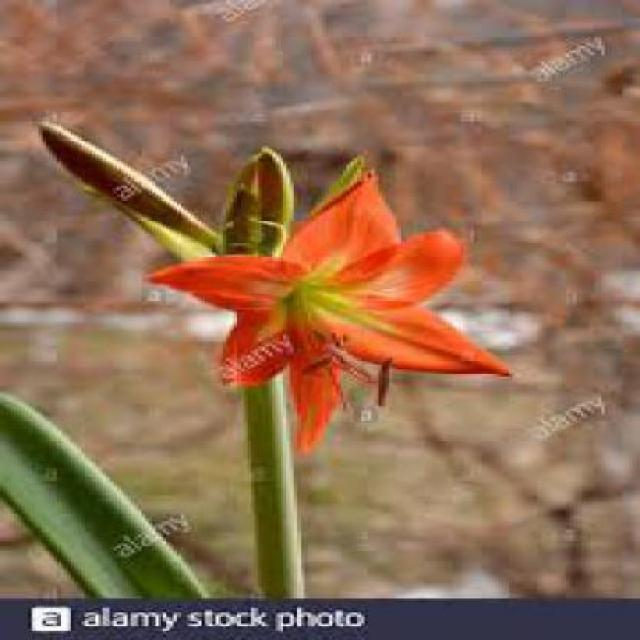Flower: (149, 170, 513, 455)
